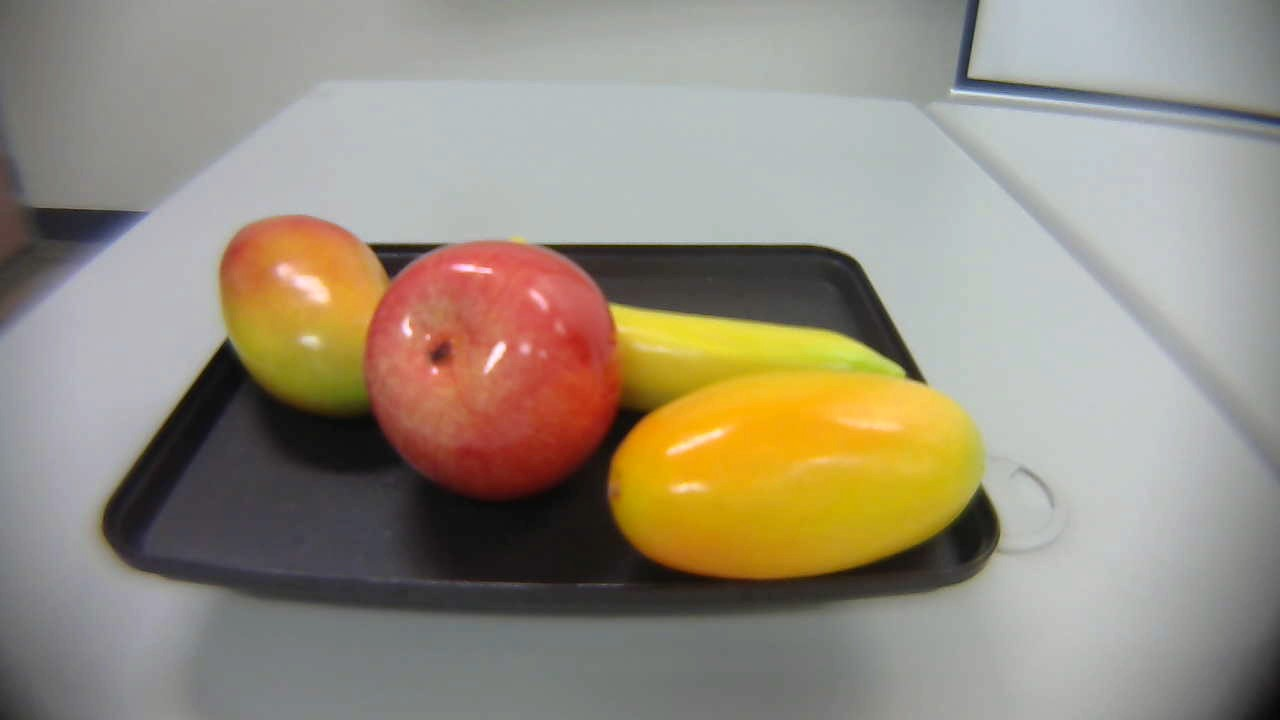banana: (577, 283, 922, 434)
red apple: (358, 238, 627, 506)
red mango: (203, 209, 413, 448)
yellow mango: (600, 359, 1008, 576)
